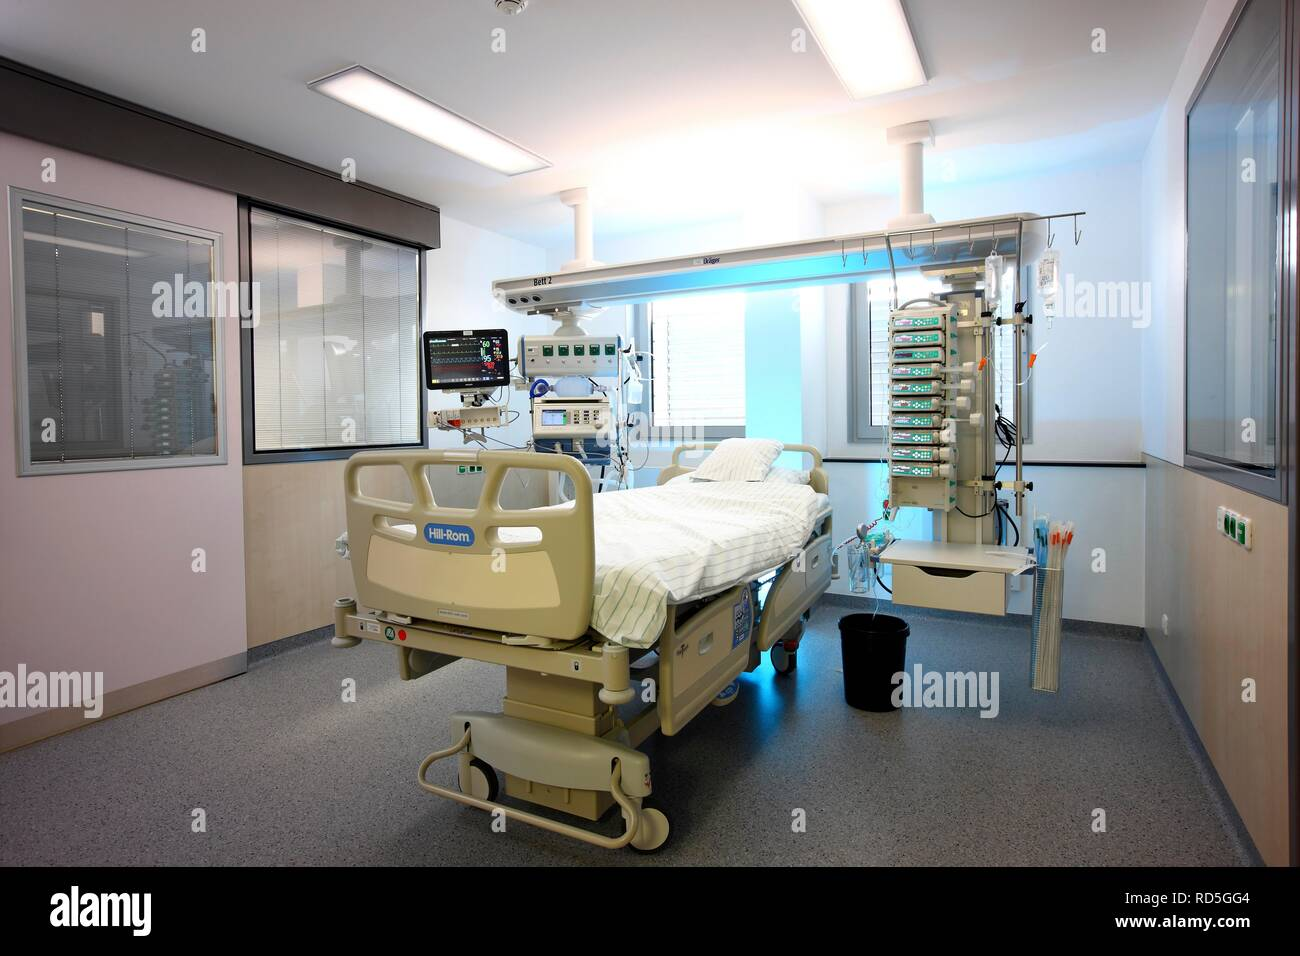bedside_monitor: (421, 329, 511, 390)
breathing_tube: (553, 443, 622, 502)
foot_board: (343, 449, 595, 640)
hospital_bed: (334, 441, 837, 852), (659, 585, 755, 735), (757, 533, 832, 651)
iv_pole: (976, 198, 1101, 429), (830, 225, 944, 322)
syringe_pump: (882, 442, 948, 460), (882, 429, 948, 447), (885, 413, 951, 431), (884, 398, 950, 416), (883, 381, 949, 399), (884, 345, 950, 363), (883, 330, 949, 348), (883, 312, 949, 330), (883, 363, 949, 381), (885, 462, 951, 479)
ventilator: (523, 384, 619, 440)
waste_bin: (841, 600, 919, 720)
